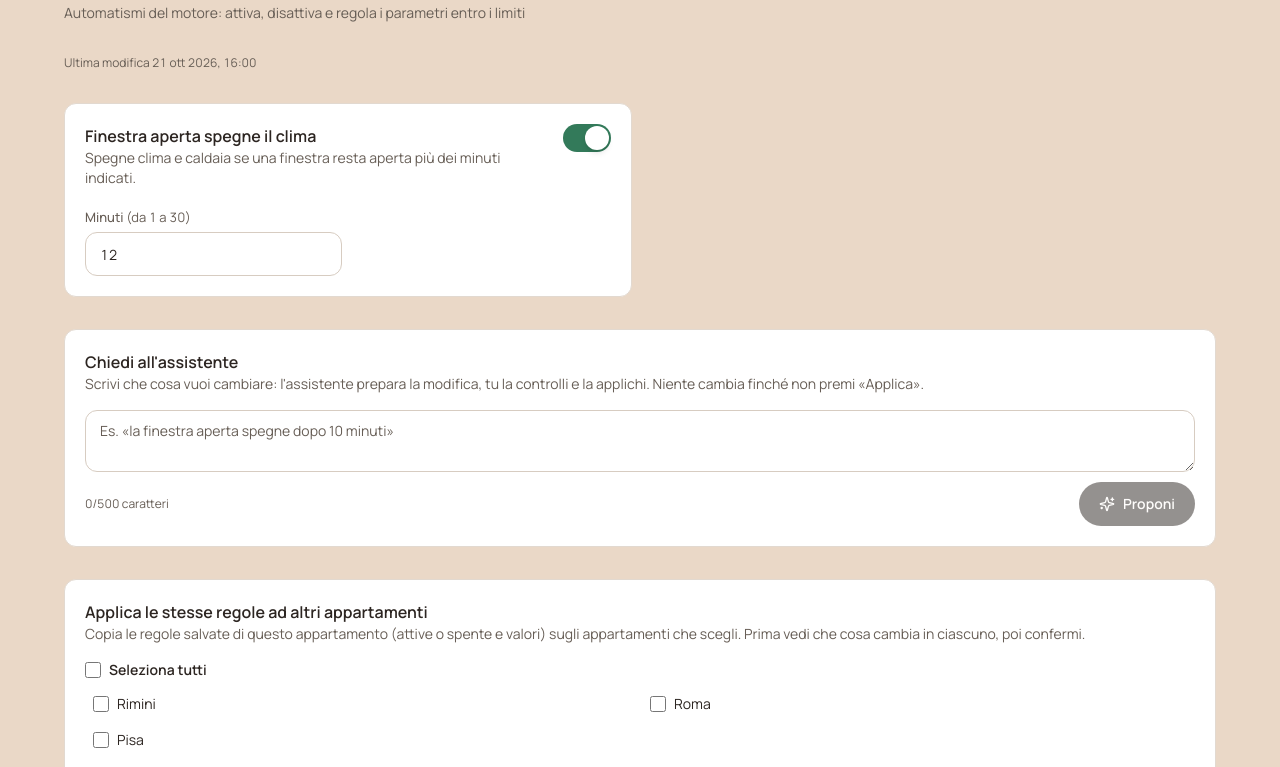
Regole: copia su altri appartamenti (D-151) › gli altri appartamenti dell'organizzazione, non quello di partenza; senza scelta niente anteprima
expect the element with test id "rule-card-window_open_off" is shown: met, box [64,103,632,297]
expect the checkbox with test id "rules-copy-target-apt-rimini-01" is shown: met, box [93,696,109,712]
Step 1. Click the checkbox with test id "rules-copy-all" → (93, 670), box [85,662,101,678]
(page scrolled)
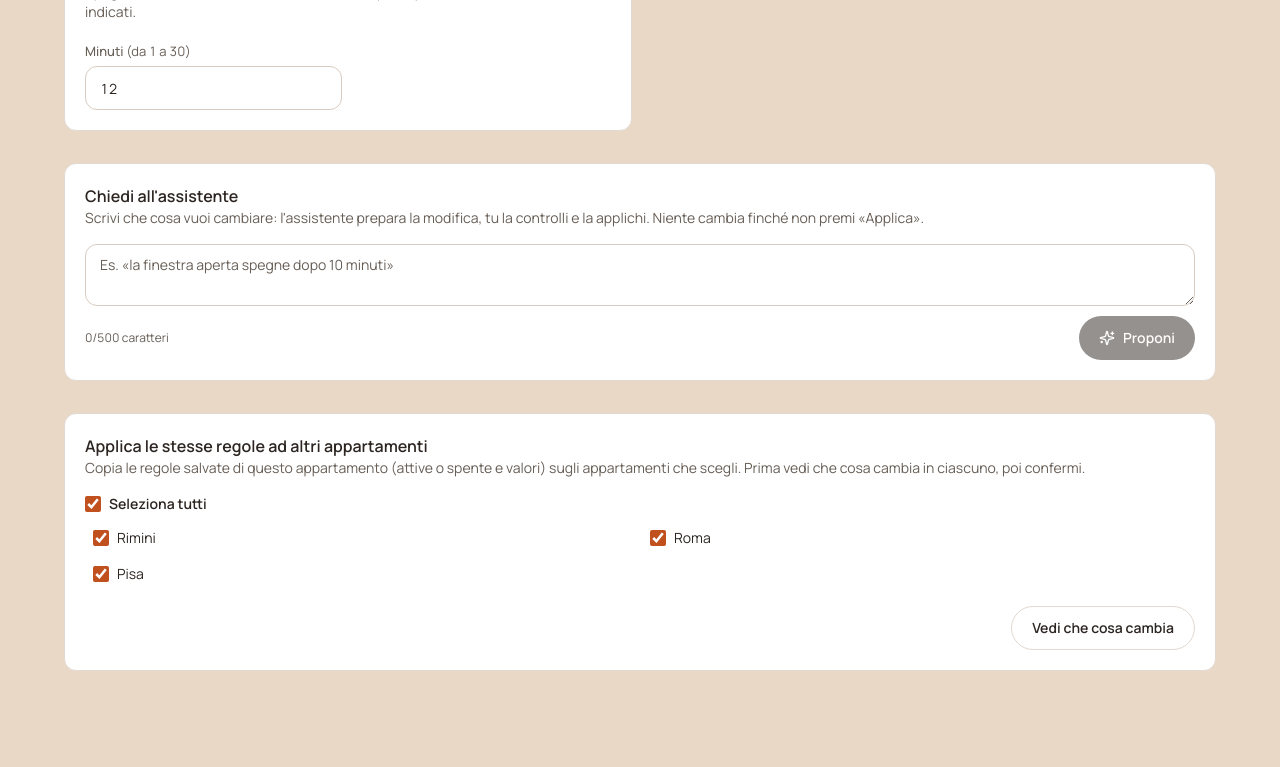
expect the button with test id "rules-copy-preview" is enabled: met, box [1011,606,1195,650]
